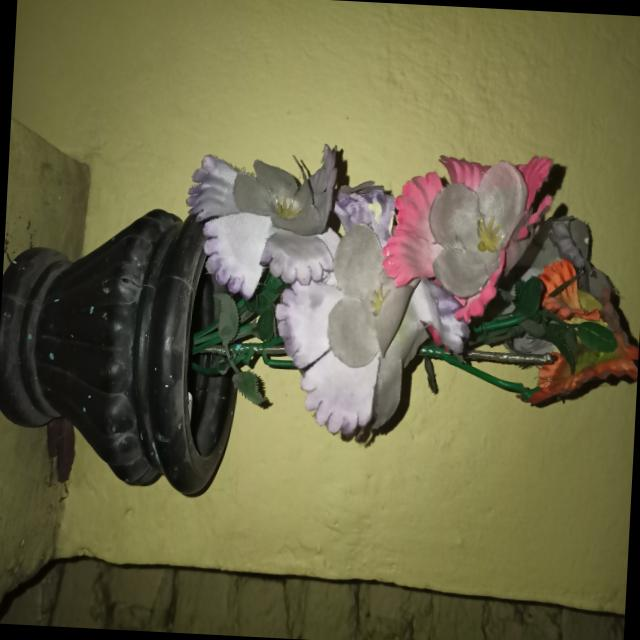plastic_box: (0, 173, 306, 550)
